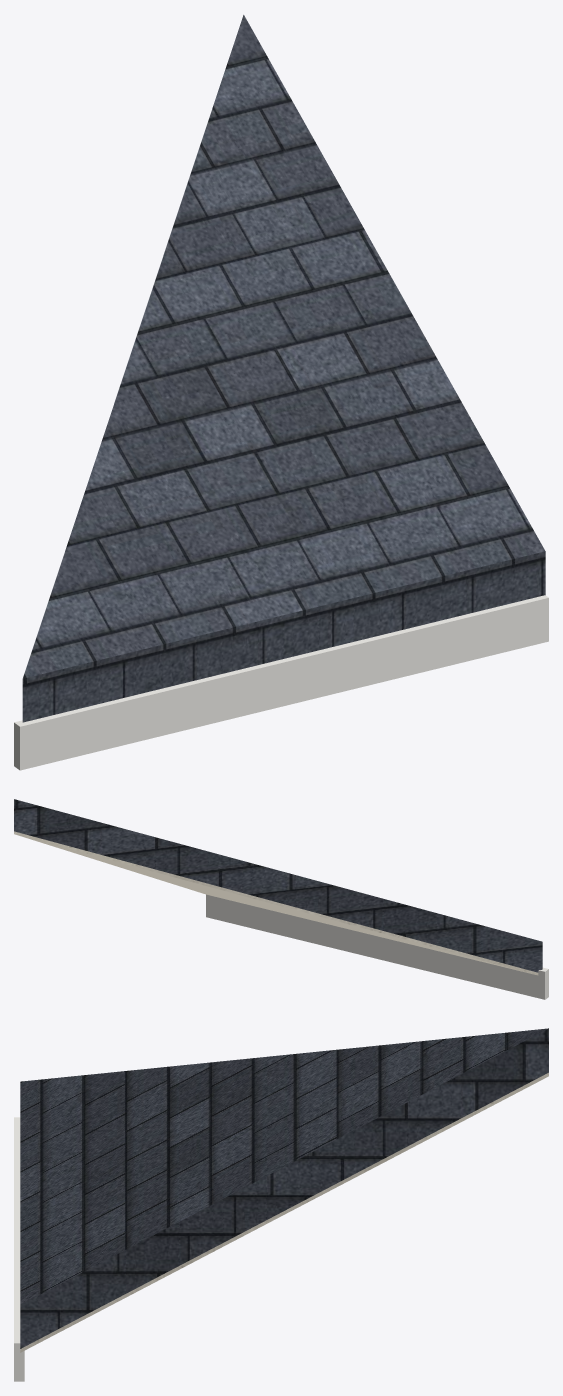
Rendered from roof_main_7_l.glb.
The picture shows the model from 3 angles, top to bottom: view 1: azimuth 30°, elevation 25°; view 2: azimuth 150°, elevation 25°; view 3: azimuth 270°, elevation 25°; orthographic projection. The views are drawn at different scales.
Parts seen in each view (by area): view 1: roof_main_7_l_shingle, roof_main_7_l_trim; view 2: roof_main_7_l_shingle, roof_main_7_l_trim, roof_main_7_l_plaster; view 3: roof_main_7_l_shingle, roof_main_7_l_plaster, roof_main_7_l_trim.
Part boxes in pixels (x1=…): roof_main_7_l_shingle: x1=22, y1=15, x2=545, y2=722; roof_main_7_l_trim: x1=14, y1=595, x2=548, y2=770; roof_main_7_l_shingle: x1=14, y1=799, x2=542, y2=972; roof_main_7_l_trim: x1=206, y1=894, x2=548, y2=999; roof_main_7_l_plaster: x1=14, y1=831, x2=538, y2=975; roof_main_7_l_shingle: x1=20, y1=1028, x2=548, y2=1348; roof_main_7_l_plaster: x1=20, y1=1072, x2=548, y2=1352; roof_main_7_l_trim: x1=14, y1=1117, x2=24, y2=1381.
Bounding box in the file's own units: 2.53 × 1.84 × 2.53.
Materials: 3 (2 with a texture image).
